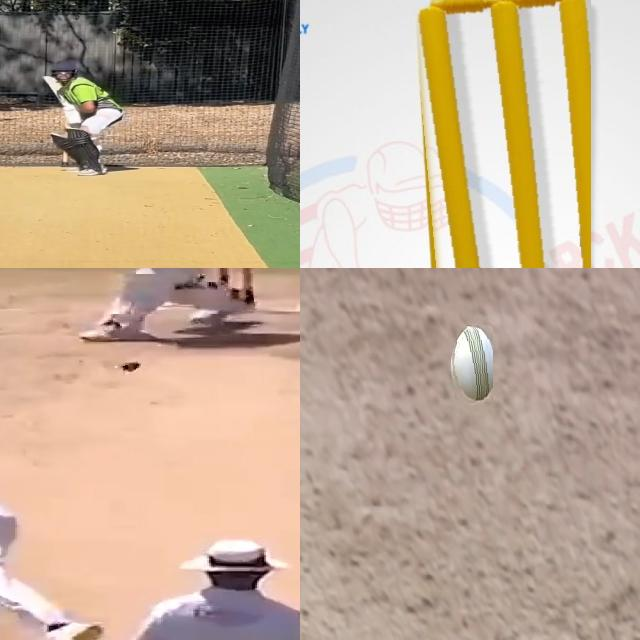Cricket ball: (449, 325, 494, 405), (118, 360, 142, 374)
Stumps: (412, 0, 591, 268), (208, 268, 253, 314)
